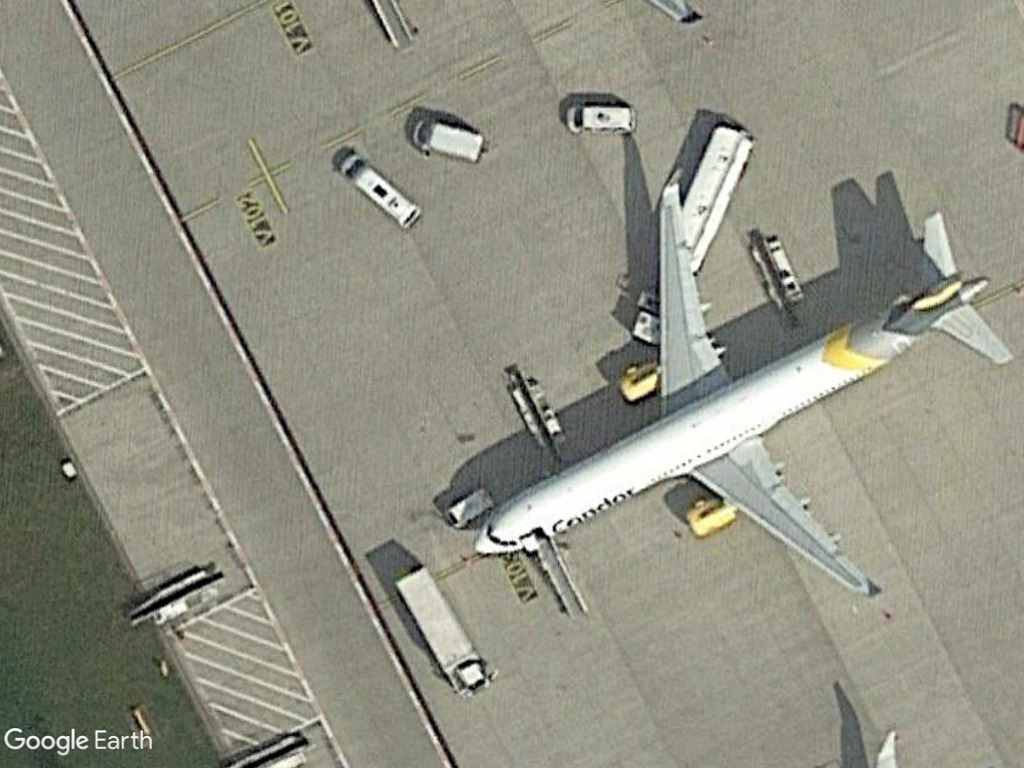airliner: (455, 160, 1010, 601)
truck: (392, 560, 496, 698)
van: (334, 147, 426, 232), (412, 115, 491, 163), (564, 99, 643, 139)
